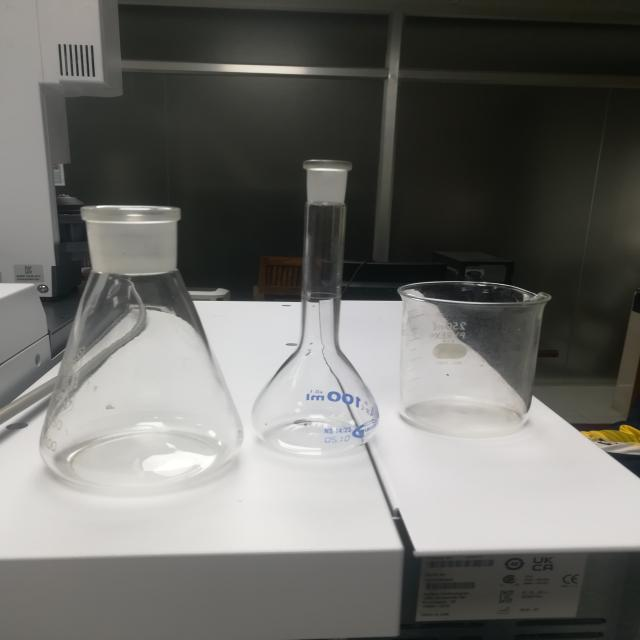Beaker: (403, 254, 550, 440)
Conical_Flask: (22, 187, 246, 506)
Volumetric_Flask: (258, 156, 388, 460)
